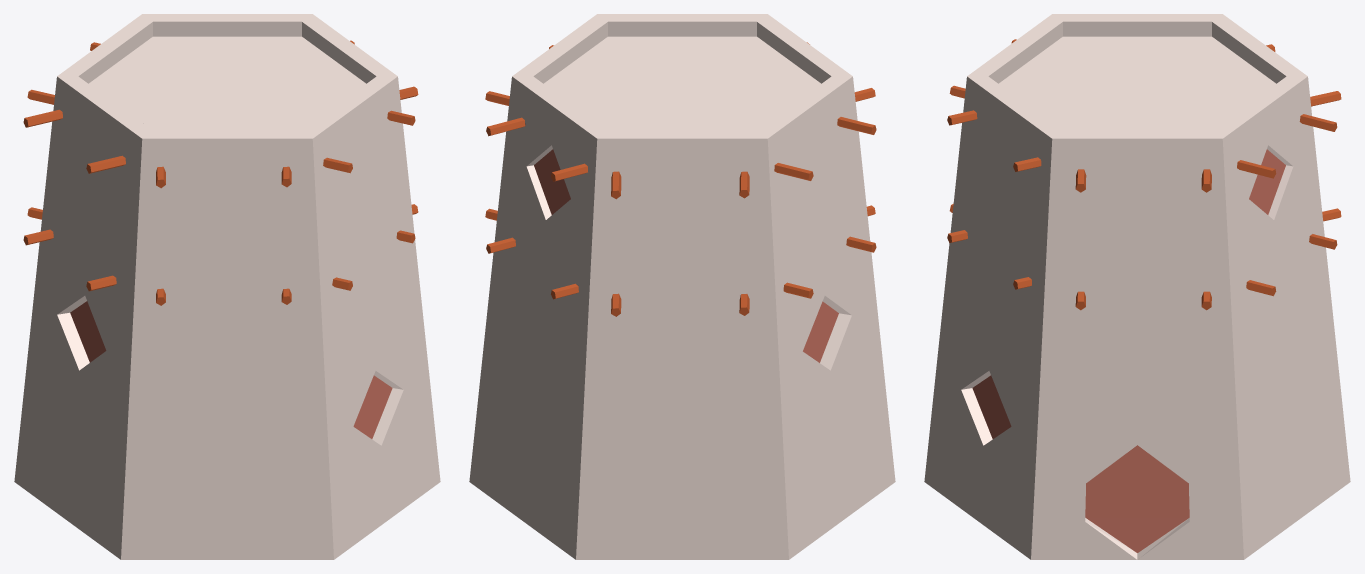
File: Bighouse.glb
The picture shows the model from 3 angles, left to right: view 1: azimuth 30°, elevation 25°; view 2: azimuth 150°, elevation 25°; view 3: azimuth 270°, elevation 25°; orthographic projection.
Visible parts, largest first — view 1: BigHouse; view 2: BigHouse; view 3: BigHouse.
Part boxes in pixels (left/top/right/bottom): BigHouse: left=14, top=14, right=440, bottom=559; BigHouse: left=469, top=14, right=895, bottom=559; BigHouse: left=924, top=14, right=1350, bottom=559.
Size of the model in its own units: 3.52 by 4.2 by 4.
Materials: 1 (1 with a texture image).
